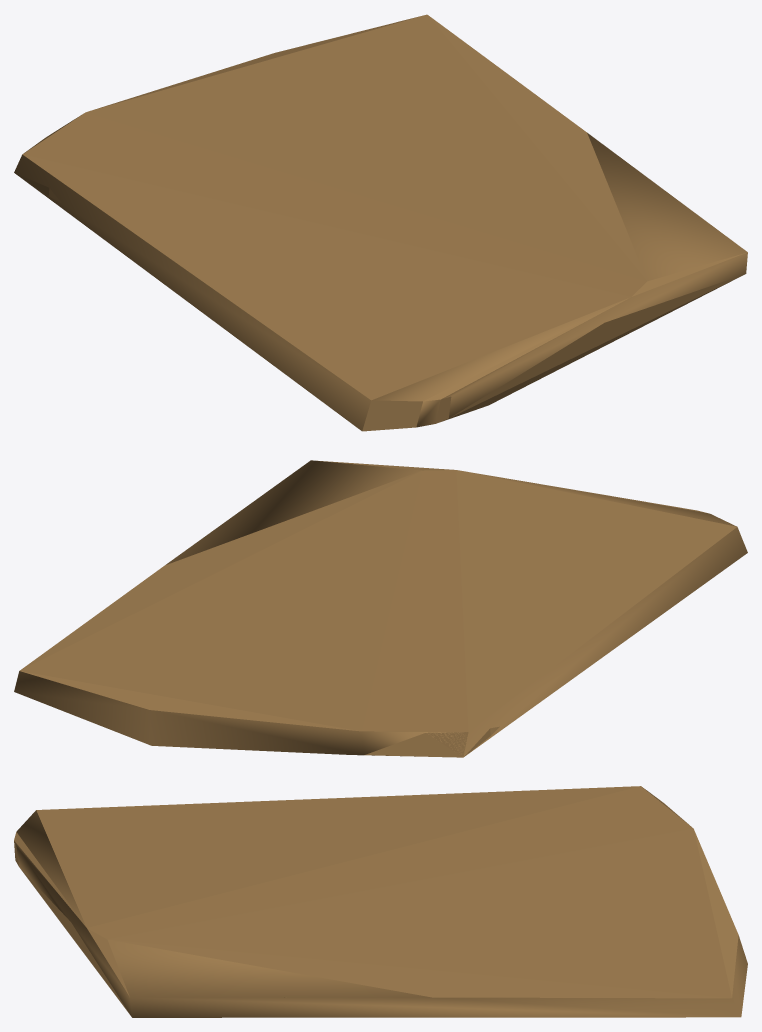
Rendered from barricade.fbx.
3 renders of one model, top to bottom at view 1: azimuth 30°, elevation 25°; view 2: azimuth 150°, elevation 25°; view 3: azimuth 270°, elevation 25°, orthographic. The views are drawn at different scales.
Visible parts, largest first — view 1: c_barricade, barricade; view 2: c_barricade, barricade; view 3: c_barricade.
Part boxes in pixels (<box>): c_barricade: <box>14,14,747,430</box>; barricade: <box>15,173,451,431</box>; c_barricade: <box>14,460,747,757</box>; barricade: <box>426,726,499,756</box>; c_barricade: <box>14,786,747,1017</box>.
Bounding box in the file's own units: 100 × 12.1 × 150.
